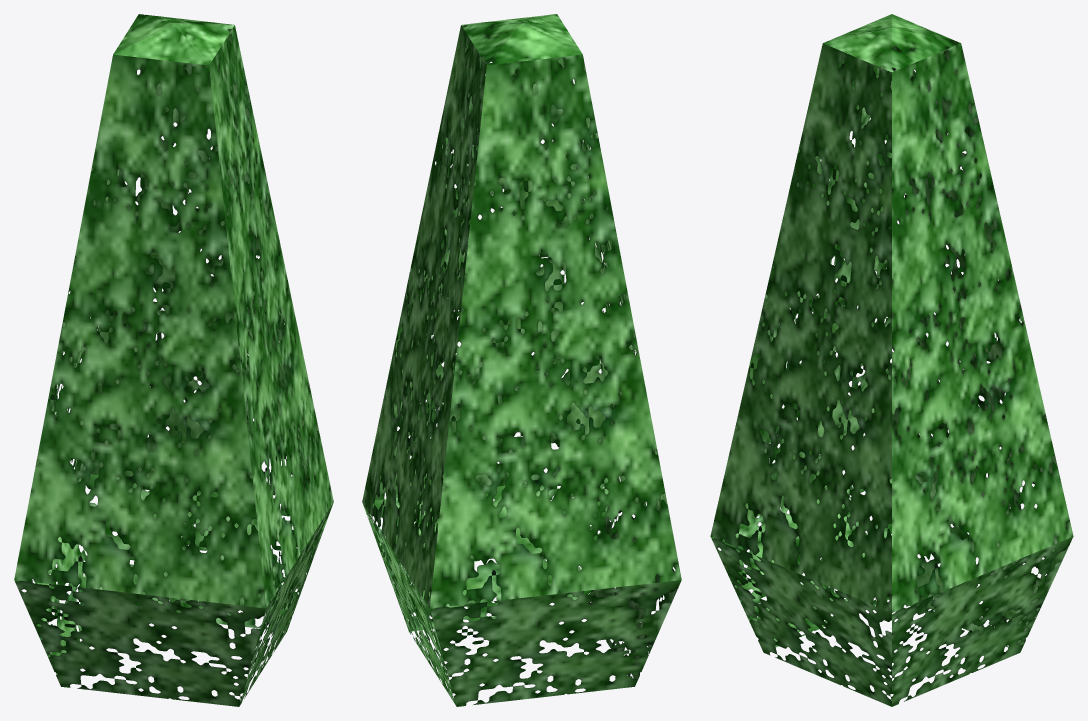
The model's file is bush_end_tall_spring.fbx.
The picture shows the model from 3 angles, left to right: view 1: azimuth 30°, elevation 25°; view 2: azimuth 150°, elevation 25°; view 3: azimuth 270°, elevation 25°; orthographic projection.
Visible parts, largest first — view 1: bush_end_tall_spring; view 2: bush_end_tall_spring; view 3: bush_end_tall_spring.
Part boxes in pixels (x1,y1,x2,y2): bush_end_tall_spring: (14,14,333,706); bush_end_tall_spring: (362,14,681,706); bush_end_tall_spring: (710,14,1073,706).
Bounding box in the file's own units: 139 × 263 × 139.
1 material, 1 textured.
